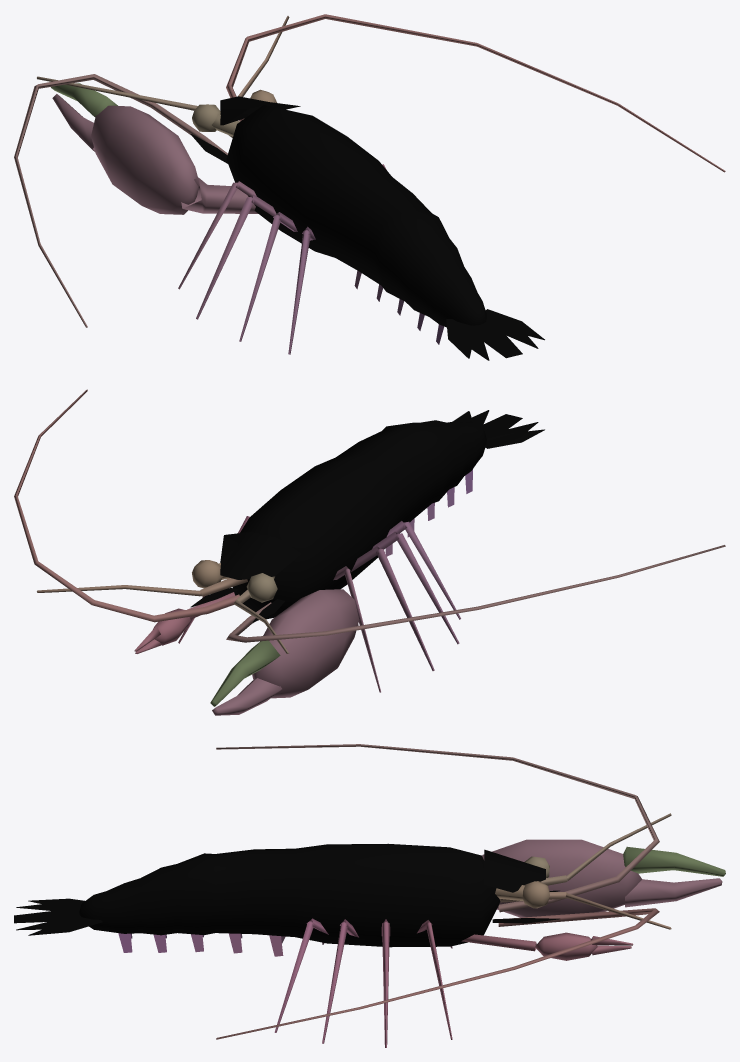
Rendered from shrimp_pistol_game.glb.
3 views of the same model, one above another, from view 1: azimuth 30°, elevation 25°; view 2: azimuth 150°, elevation 25°; view 3: azimuth 270°, elevation 25° (orthographic). The views are drawn at different scales.
Parts seen in each view (by area): view 1: shrimp_pistol_game; view 2: shrimp_pistol_game; view 3: shrimp_pistol_game.
Part boxes in pixels (bbox=[...]): shrimp_pistol_game: bbox=[14, 14, 725, 360]; shrimp_pistol_game: bbox=[14, 389, 725, 715]; shrimp_pistol_game: bbox=[14, 744, 725, 1047].
Bounding box in the file's own units: 0.0562 × 0.0134 × 0.058.
